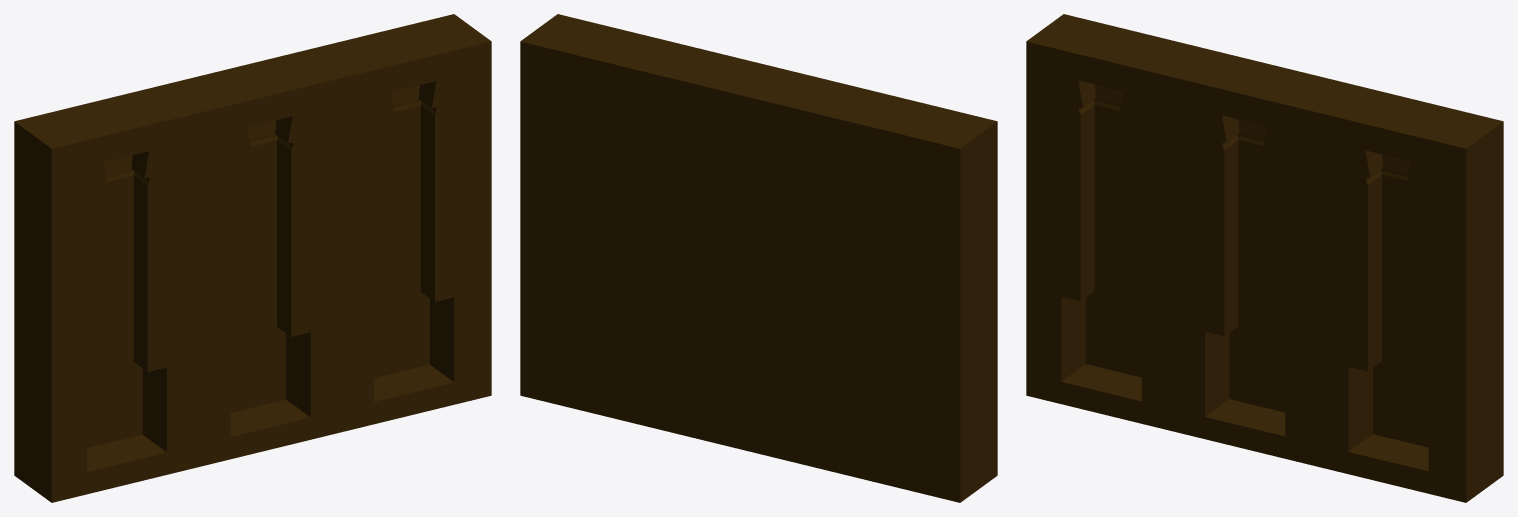
File: VialDoor.FBX
3 renders of one model, left to right at view 1: azimuth 30°, elevation 25°; view 2: azimuth 150°, elevation 25°; view 3: azimuth 330°, elevation 25°, orthographic.
Visible parts, largest first — view 1: Box007; view 2: Box007; view 3: Box007.
Boxes of the visible parts, x1,y1,x2,y2 form: Box007: [14, 14, 491, 502]; Box007: [520, 14, 997, 502]; Box007: [1026, 14, 1503, 502].
Size of the model in its own units: 180 by 139 by 26.62.
